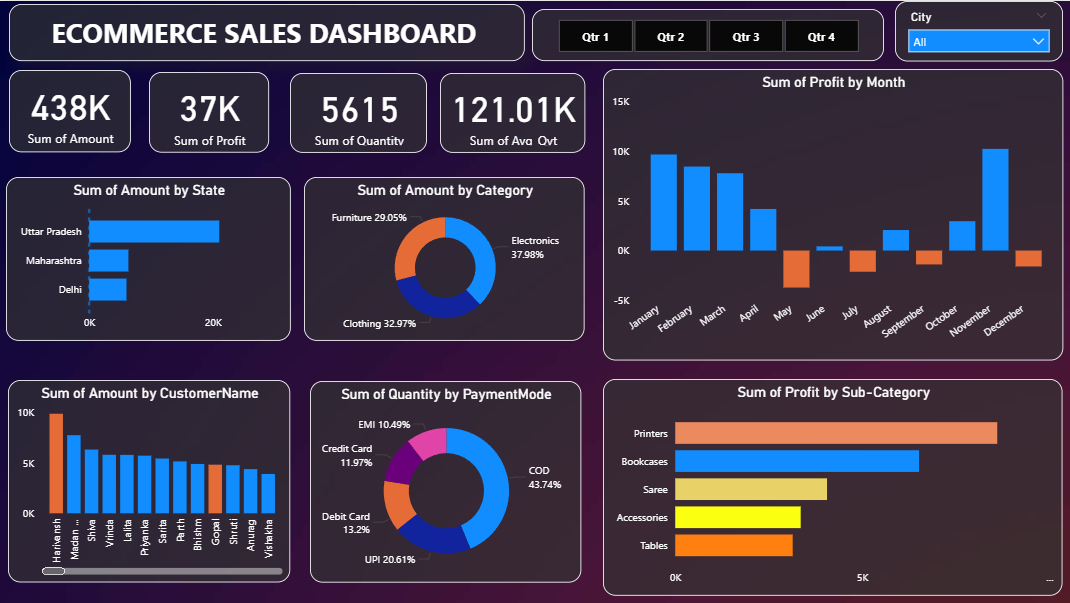

Layout of this report page (visuals, bound fields, positions):
{"tool":"powerbi","page":{"name":"Page 1","canvas":[1280,720],"ordinal":0},"visuals":[{"type":"textbox","box":[11.5,3.5,613.6,68.3],"z":0},{"type":"columnChart","fields":{"Category":["Orders.Order Date.Variation.Date Hierarchy.Month"],"Y":["Sum(Details.Profit)"]},"box":[719,81,547.5,347.2],"z":1000},{"type":"barChart","fields":{"Y":["Sum(Details.Profit)"],"Category":["Details.Sub-Category"]},"box":[718.8,449.9,547.4,258.2],"z":2000},{"type":"donutChart","fields":{"Category":["Details.Category"],"Y":["Sum(Details.Amount)"]},"box":[363.5,209.3,334.3,195.1],"z":3000},{"type":"donutChart","fields":{"Category":["Details.PaymentMode"],"Y":["Sum(Details.Quantity)"]},"box":[369.8,452.2,322.8,240.3],"z":4000},{"type":"columnChart","fields":{"Category":["Orders.CustomerName"],"Y":["Sum(Details.Amount)"]},"box":[10.9,451.7,336,240.7],"z":5000},{"type":"barChart","fields":{"Category":["Orders.State"],"Y":["Sum(Details.Amount)"]},"box":[7.8,209.4,339.2,195.4],"z":6000},{"type":"card","fields":{"Values":["Sum(Details.Amount)"]},"box":[11.7,82.7,144.9,98.2],"z":7000},{"type":"card","fields":{"Values":["Sum(Details.Profit)"]},"box":[179,84.6,143,96.3],"z":8000},{"type":"card","fields":{"Values":["Sum(Details.Quantity)"]},"box":[346.3,85.6,163.4,95.3],"z":9000},{"type":"card","fields":{"Values":["Sum(Details.Avg_Qyt)"]},"box":[525.2,85.6,173.1,95.3],"z":10000},{"type":"slicer","fields":{"Values":["Orders.Order Date.Variation.Date Hierarchy.Quarter"]},"box":[634.9,9.8,418.5,62.1],"z":11000},{"type":"slicer","fields":{"Values":["Orders.City"]},"box":[1066.7,0,199.5,71.8],"z":12000}]}

Visuals, with their boxes in screenshot pixels (x1, y1, x2, y2), scaled from the page's 1280x720 canvas onto the 1070x603 screenshot:
textbox: bbox(10, 3, 523, 60)
columnChart - Orders.Order Date.Variation.Date Hierarchy.Month x Sum(Details.Profit): bbox(601, 68, 1059, 359)
barChart - Sum(Details.Profit) x Details.Sub-Category: bbox(601, 377, 1058, 593)
donutChart - Details.Category x Sum(Details.Amount): bbox(304, 175, 583, 339)
donutChart - Details.PaymentMode x Sum(Details.Quantity): bbox(309, 379, 579, 580)
columnChart - Orders.CustomerName x Sum(Details.Amount): bbox(9, 378, 290, 580)
barChart - Orders.State x Sum(Details.Amount): bbox(7, 175, 290, 339)
card - Sum(Details.Amount): bbox(10, 69, 131, 152)
card - Sum(Details.Profit): bbox(150, 71, 269, 152)
card - Sum(Details.Quantity): bbox(289, 72, 426, 152)
card - Sum(Details.Avg_Qyt): bbox(439, 72, 584, 152)
slicer - Orders.Order Date.Variation.Date Hierarchy.Quarter: bbox(531, 8, 881, 60)
slicer - Orders.City: bbox(892, 0, 1058, 60)
